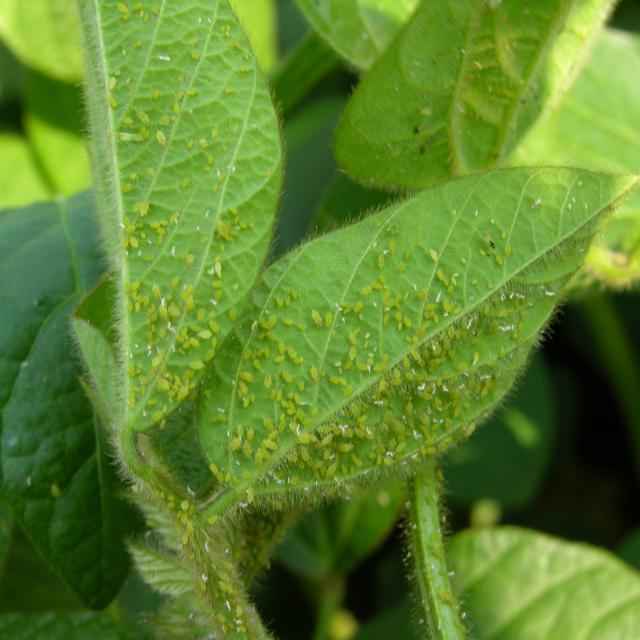Aphids: (210, 207, 241, 241)
